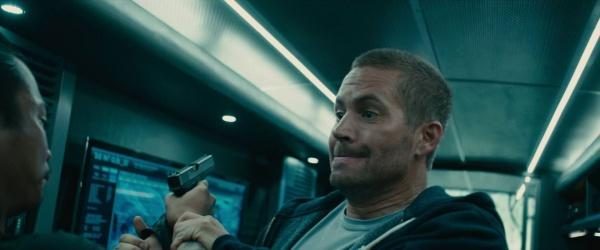Gun: (167, 153, 217, 198)
